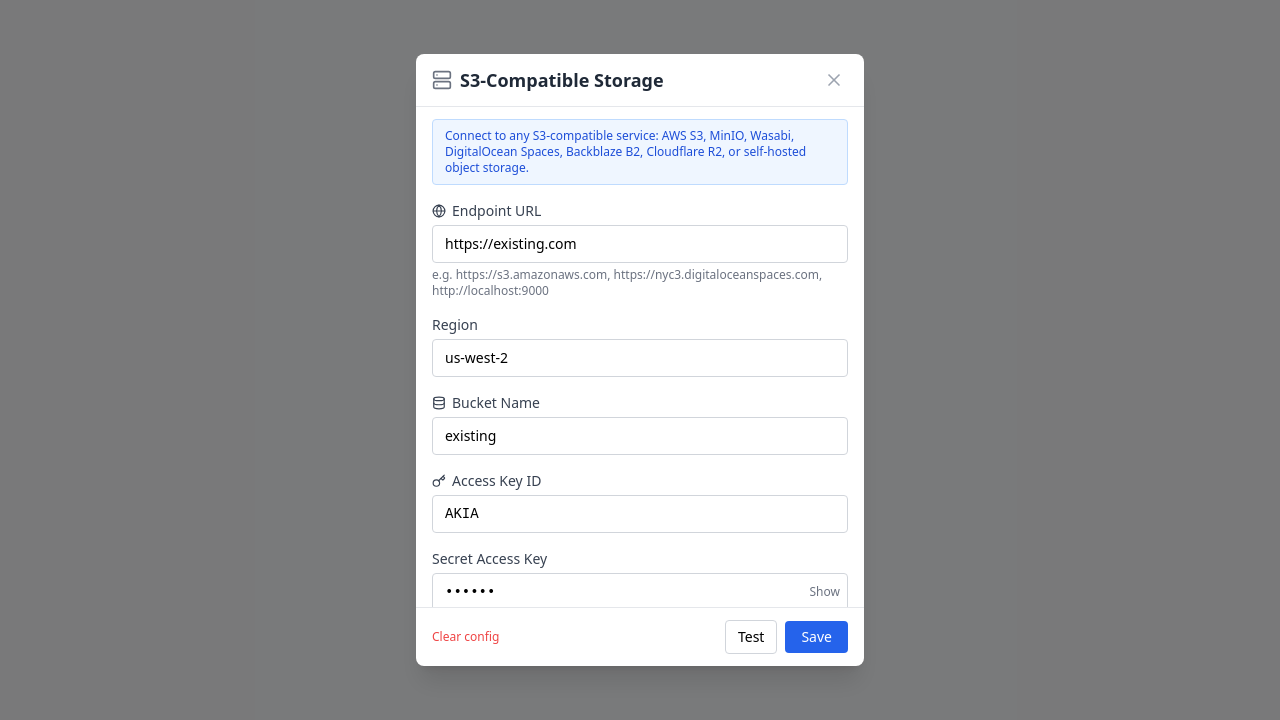
Test case: S3ConfigModal › clear config › clears config and resets form
expect the field with placeholder "https://s3.amazonaws.com" below "Endpoint URL" holds "https://existing.com": met, box [432,225,848,263]
Click the button "Clear config". click: (466, 637)
box: [432,629,499,645]
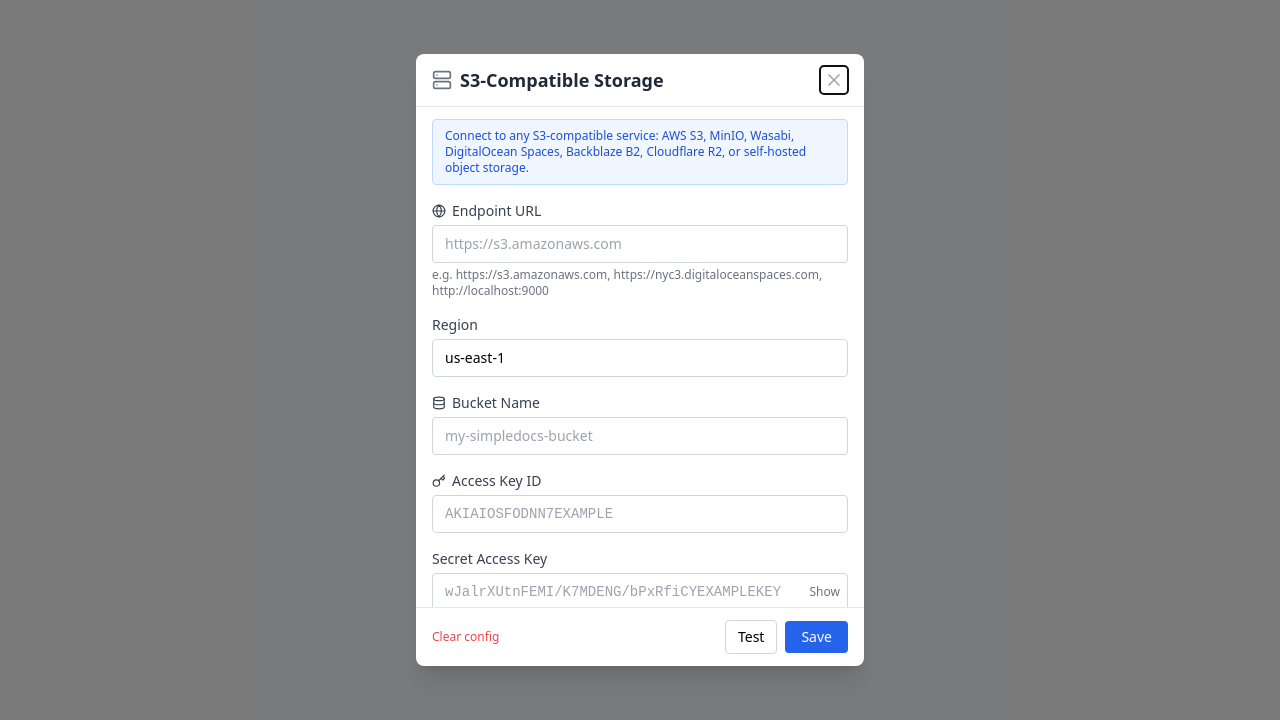
expect the field with placeholder "https://s3.amazonaws.com" is empty: met, box [432,225,848,263]
expect the field with placeholder "my-simpledocs-bucket" is empty: met, box [432,417,848,455]
